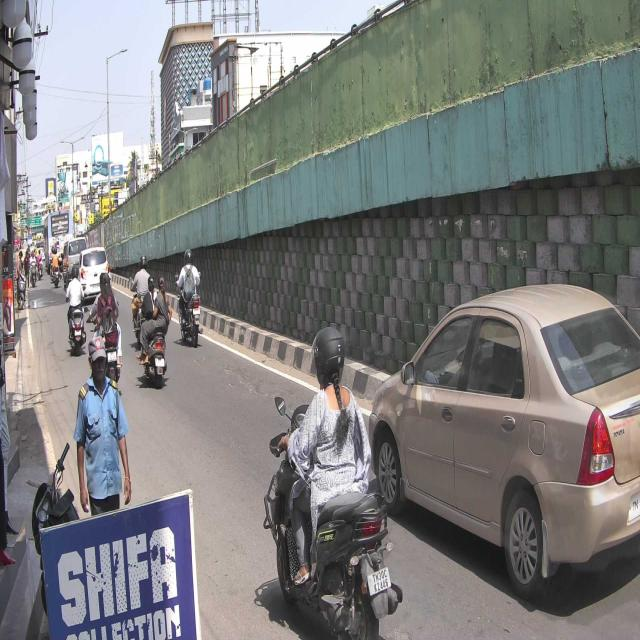single_rider: (264, 323, 387, 640)
